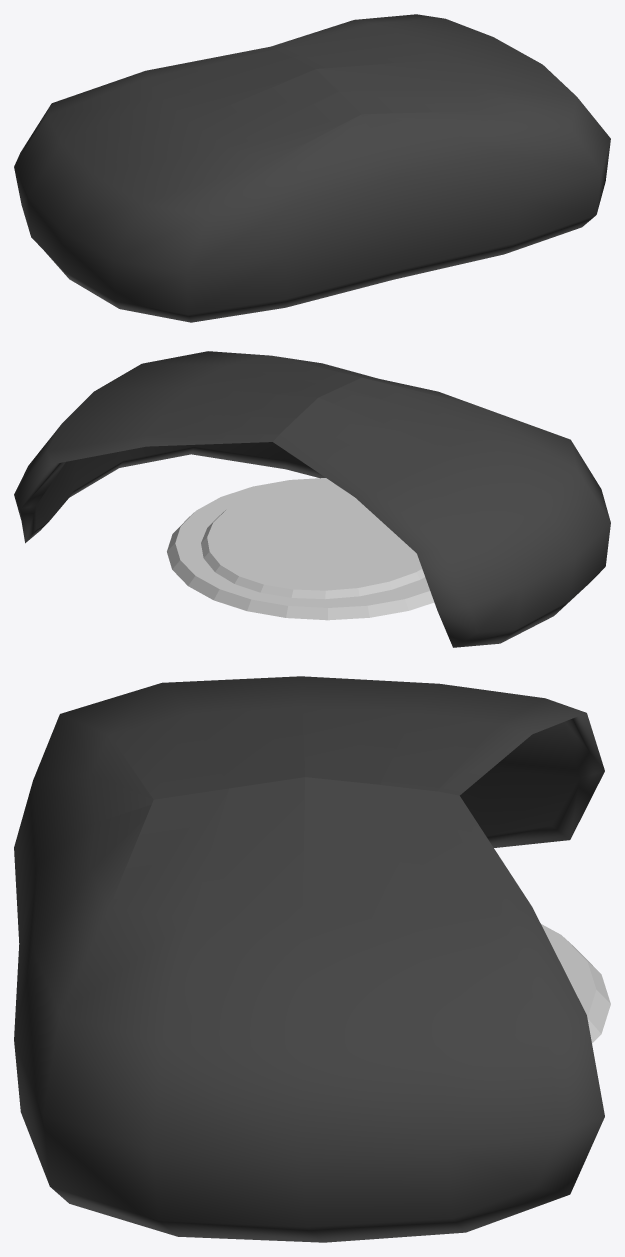
Rendered from Level2.fbx.
3 views of the same model, one above another, from view 1: azimuth 30°, elevation 25°; view 2: azimuth 150°, elevation 25°; view 3: azimuth 270°, elevation 25° (orthographic). The views are drawn at different scales.
Parts seen in each view (by area): view 1: Cave; view 2: Cave, land1, underland; view 3: Cave, underland.
Part boxes in pixels (x1,y1,x2,y2): Cave: (14,14,610,322); Cave: (14,351,610,647); land1: (201,479,424,599); underland: (167,478,434,620); Cave: (14,676,604,1242); underland: (541,924,610,1043).
Size of the model in its own units: 239 by 69.29 by 142.
